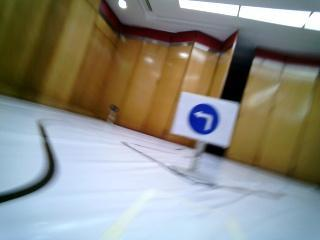left: (182, 92, 233, 145)
